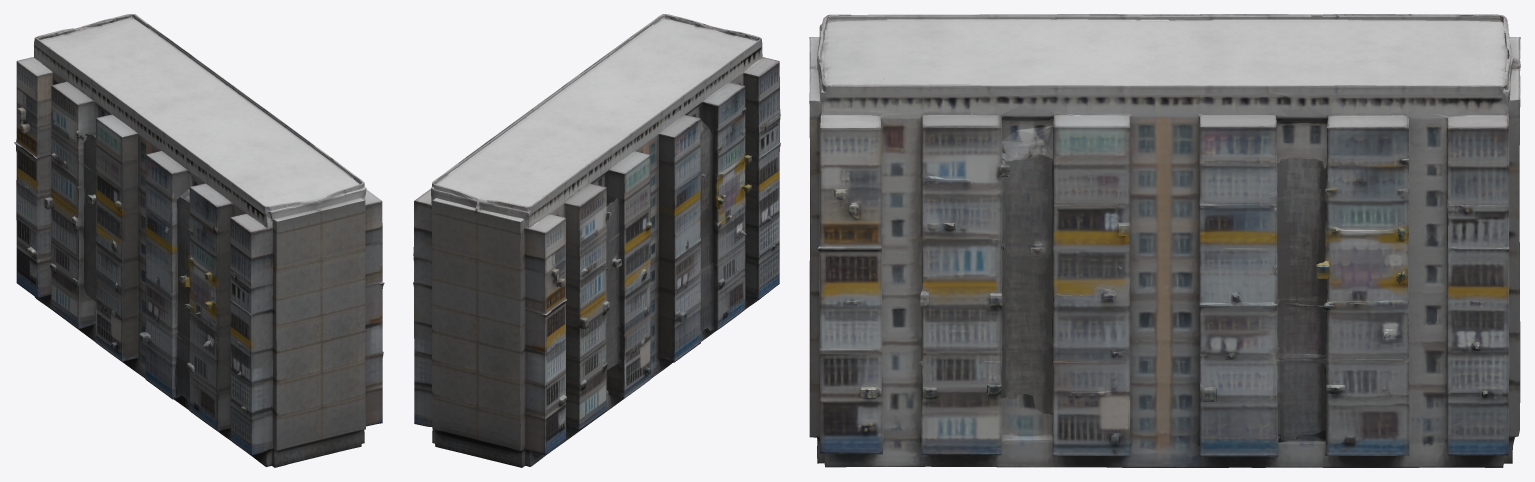
File: SSSR_House_1.fbx
The picture shows the model from 3 angles, left to right: view 1: azimuth 30°, elevation 25°; view 2: azimuth 150°, elevation 25°; view 3: azimuth 270°, elevation 25°; orthographic projection. The views are drawn at different scales.
Visible parts, largest first — view 1: world; view 2: world; view 3: world.
Boxes of the visible parts, box(x1,y1,x2,y2) form: world: box(14, 14, 384, 467); world: box(413, 14, 780, 467); world: box(809, 14, 1520, 467).
Size of the model in its own units: 34.94 by 59.07 by 99.4.
